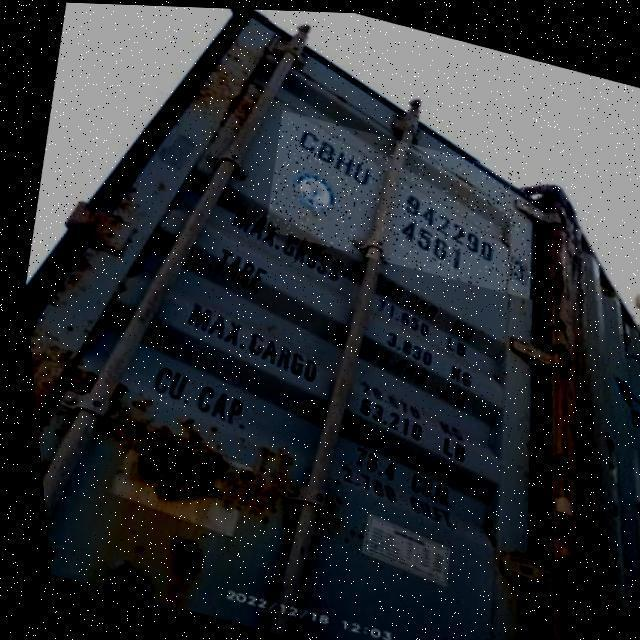container_number_h: (253, 107, 555, 297)
